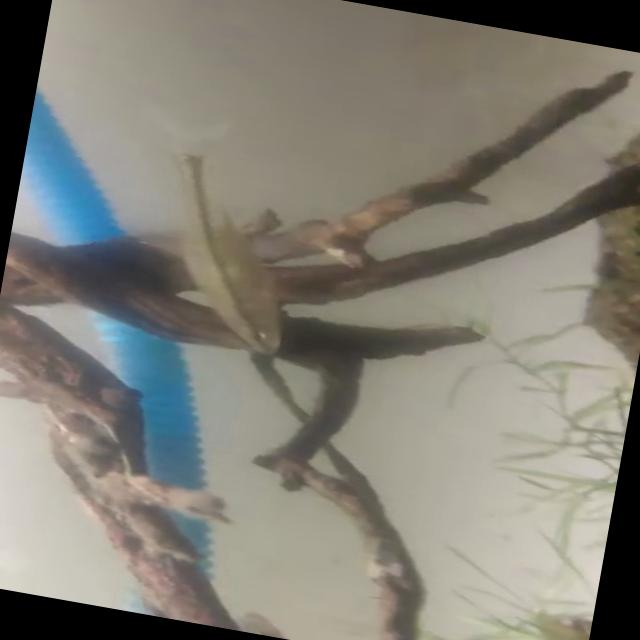Cakil Baligi: (117, 139, 315, 358)
